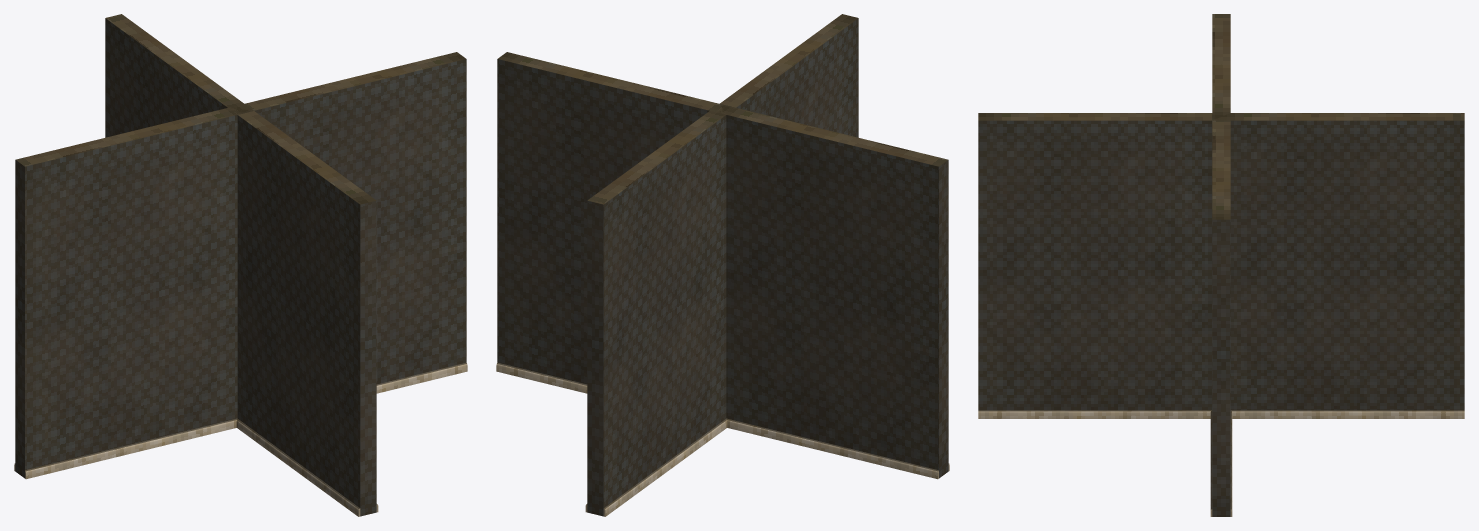
The model's file is Wall_Corner01_IntInt.glb.
The picture shows the model from 3 angles, left to right: view 1: azimuth 30°, elevation 25°; view 2: azimuth 150°, elevation 25°; view 3: azimuth 270°, elevation 25°; orthographic projection. The views are drawn at different scales.
Visible parts, largest first — view 1: Wall_Corner01_IntInt; view 2: Wall_Corner01_IntInt; view 3: Wall_Corner01_IntInt.
Boxes of the visible parts, <box> form: Wall_Corner01_IntInt: <box>14,14,467,516</box>; Wall_Corner01_IntInt: <box>496,14,949,516</box>; Wall_Corner01_IntInt: <box>978,14,1464,516</box>.
Bounding box in the file's own units: 4 × 2.7 × 4.
Materials: 1 (1 with a texture image).
